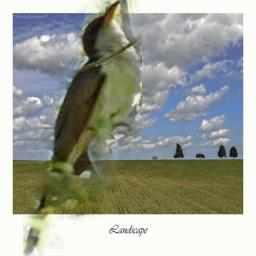Cuckoo: (23, 0, 142, 256)
